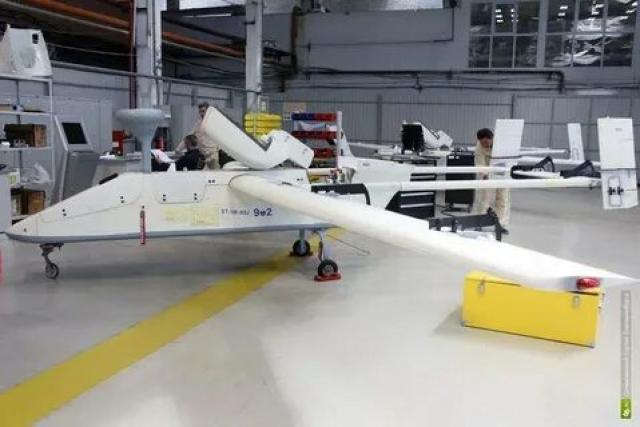military drone: (0, 107, 637, 293)
